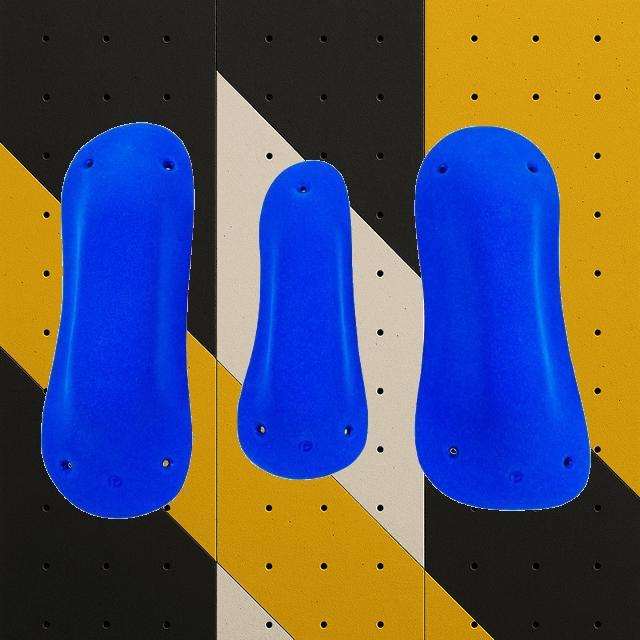Pinch: (412, 123, 592, 510), (41, 121, 196, 518), (235, 159, 368, 479)
